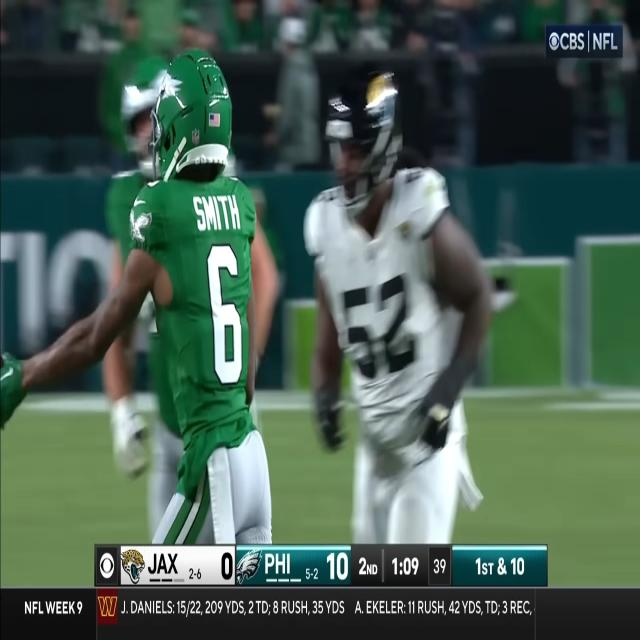Player: (309, 72, 470, 540), (141, 55, 277, 539)
